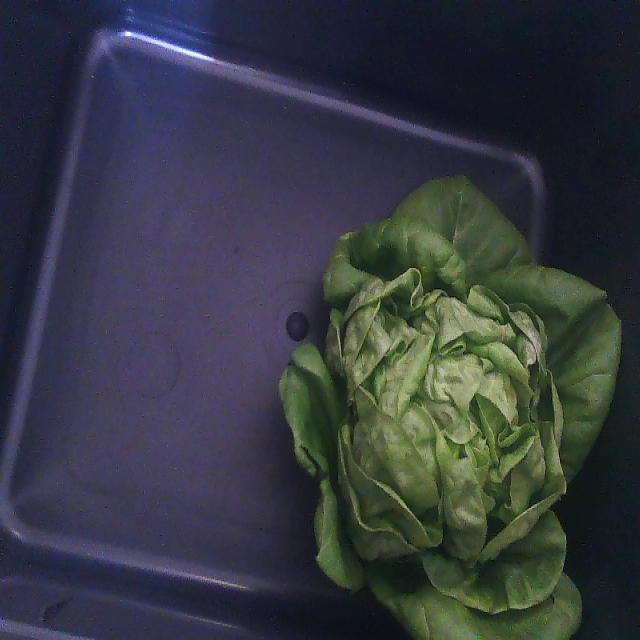lettuce: (280, 177, 619, 639)
